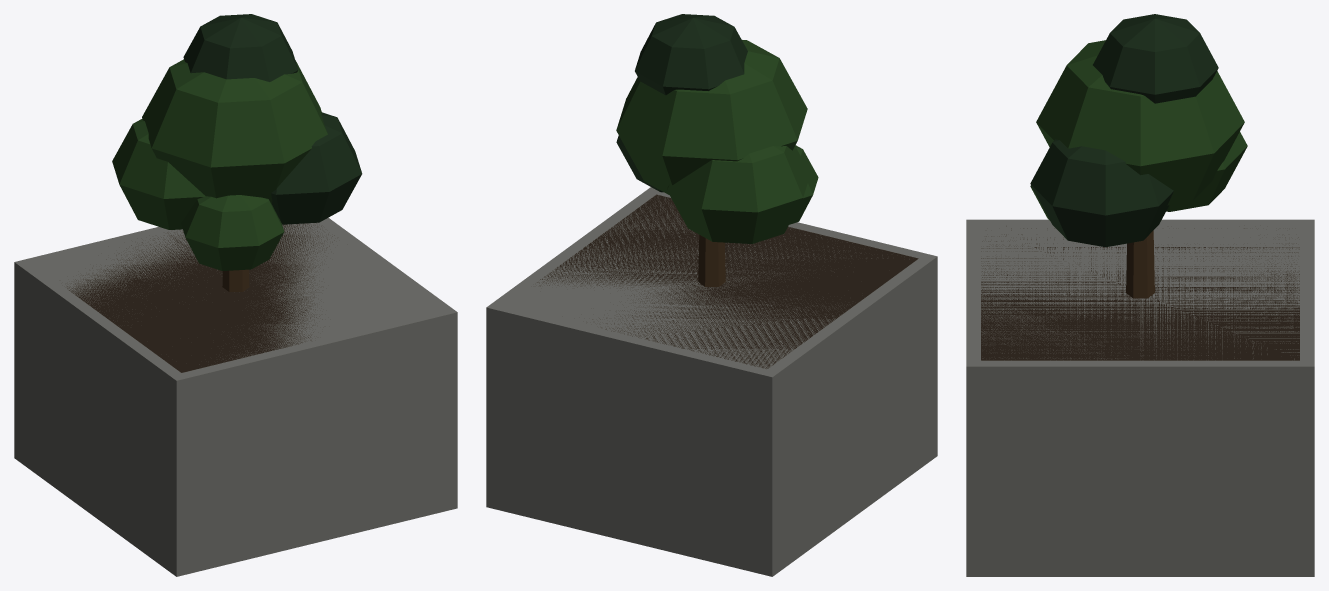
Rendered from planter.glb.
3 views of the same model, side by side, from view 1: azimuth 30°, elevation 25°; view 2: azimuth 150°, elevation 25°; view 3: azimuth 270°, elevation 25° (orthographic). The views are drawn at different scales.
Parts seen in each view (by area): view 1: planter; view 2: planter; view 3: planter.
Part boxes in pixels (<box>): planter: <box>14,14,457,576</box>; planter: <box>486,14,937,576</box>; planter: <box>966,14,1314,576</box>.
Bounding box in the file's own units: 1.2 × 1.87 × 1.2.
